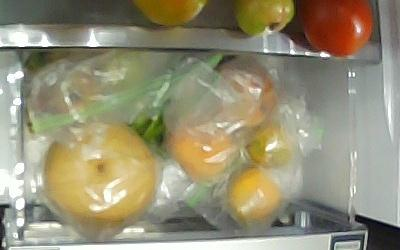peach_vinyl: (166, 114, 241, 179), (215, 58, 277, 125)
pear_vinyl: (44, 122, 156, 221)
tangerine_vinyl: (228, 166, 281, 226), (245, 122, 292, 166)
